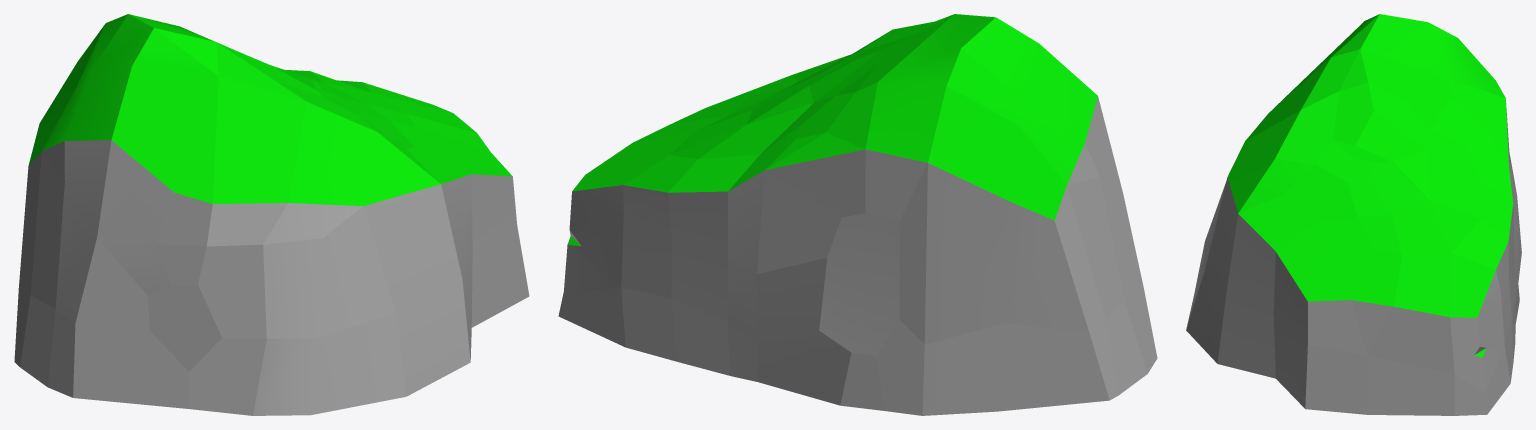
Rendered from rock_beach_big_C.fbx.
3 views of the same model, side by side, from view 1: azimuth 30°, elevation 25°; view 2: azimuth 150°, elevation 25°; view 3: azimuth 270°, elevation 25° (orthographic). The views are drawn at different scales.
Parts seen in each view (by area): view 1: rock_beach_big_C; view 2: rock_beach_big_C; view 3: rock_beach_big_C.
Part boxes in pixels (<box>): rock_beach_big_C: <box>14,14,529,415</box>; rock_beach_big_C: <box>558,14,1157,415</box>; rock_beach_big_C: <box>1186,14,1521,415</box>.
Size of the model in its own units: 158 by 102 by 118.
